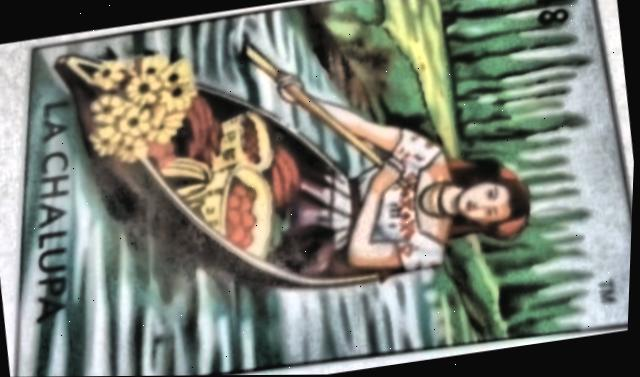La Chalupa: (19, 0, 633, 377)
